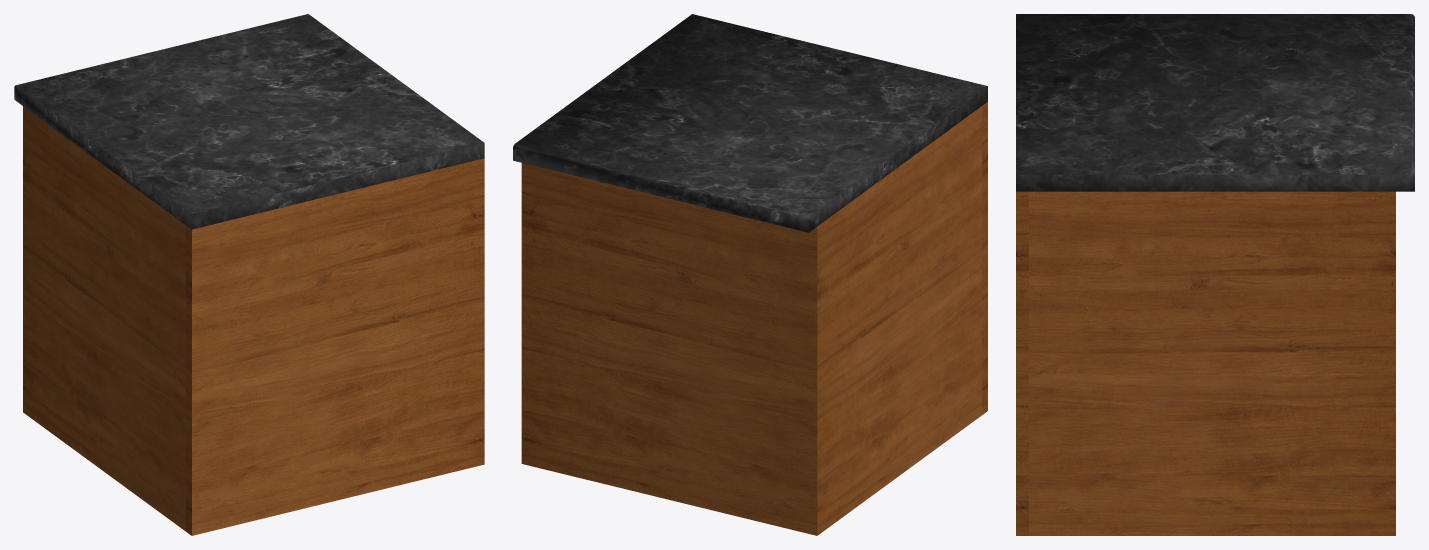
File: counterBase.fbx
3 renders of one model, left to right at view 1: azimuth 30°, elevation 25°; view 2: azimuth 150°, elevation 25°; view 3: azimuth 270°, elevation 25°, orthographic. The views are drawn at different scales.
Visible parts, largest first — view 1: Cube; view 2: Cube; view 3: Cube.
Part boxes in pixels (bbox=[...]): Cube: bbox=[14, 14, 484, 535]; Cube: bbox=[513, 14, 987, 535]; Cube: bbox=[1016, 14, 1414, 535].
Size of the model in its own units: 200 by 210 by 210.
